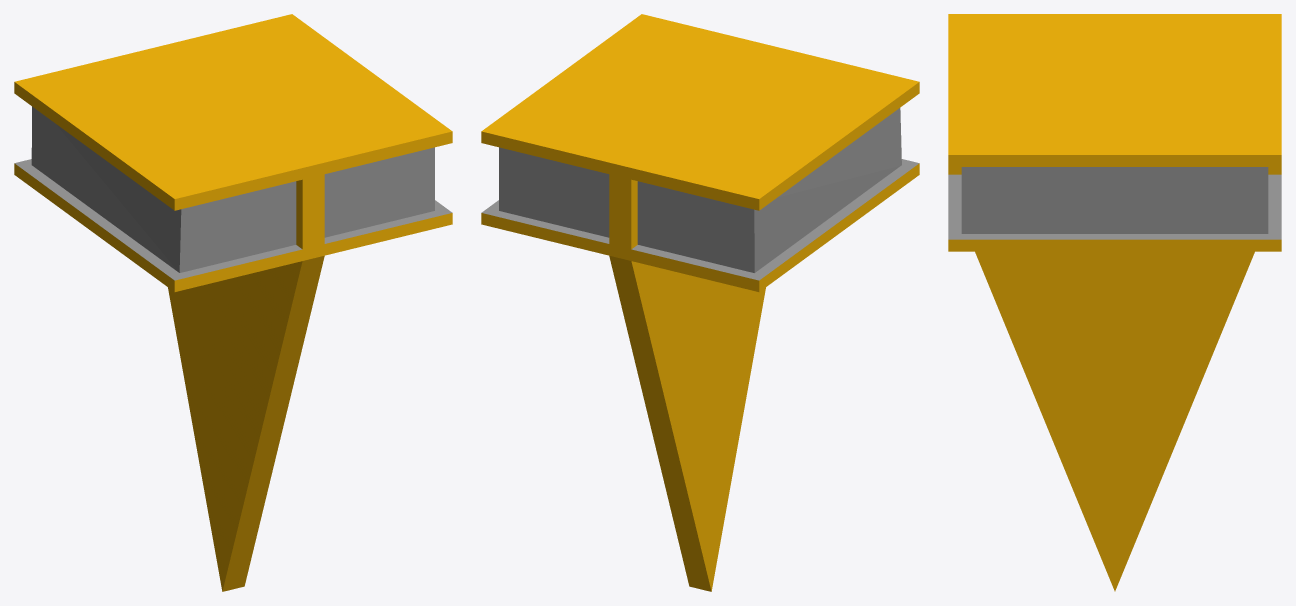
File: beacon_light.dae
3 renders of one model, left to right at view 1: azimuth 30°, elevation 25°; view 2: azimuth 150°, elevation 25°; view 3: azimuth 270°, elevation 25°, orthographic. The views are drawn at different scales.
Visible parts, largest first — view 1: Cube; view 2: Cube; view 3: Cube.
Boxes of the visible parts, bbox=[...] form: Cube: bbox=[14, 14, 452, 591]; Cube: bbox=[481, 14, 919, 591]; Cube: bbox=[948, 14, 1281, 591].
Size of the model in its own units: 0.25 by 0.25 by 0.415.
